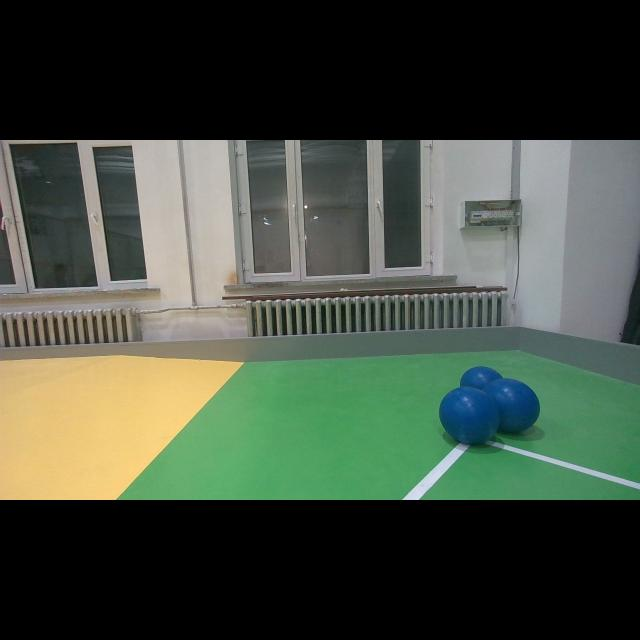B: (438, 386, 499, 444), (486, 377, 542, 435), (460, 364, 502, 400)
